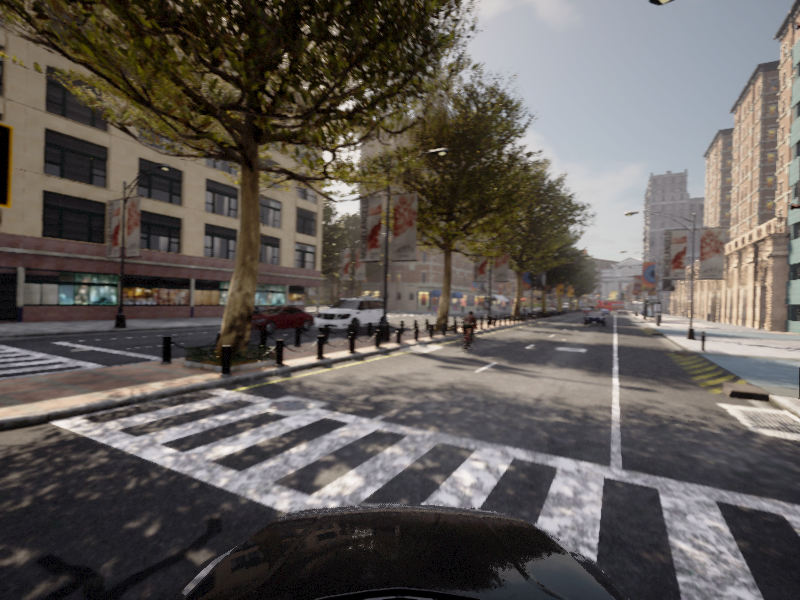vehicle: (310, 296, 392, 337), (234, 305, 320, 335), (454, 310, 482, 353), (583, 311, 606, 326)
